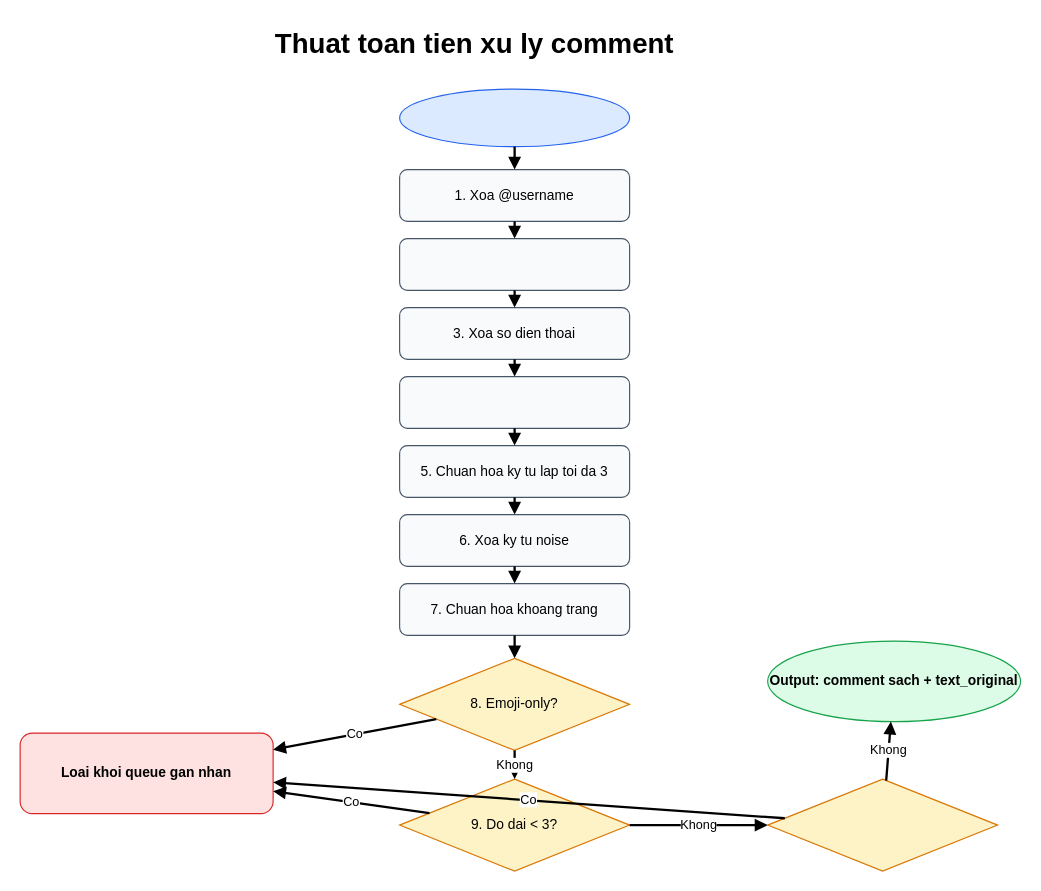
Image size: 1041x891. Some labels were removed from this diagram. Here are the shapes that lost their labels. From the top down, the box of each, then its label:
(398, 88, 630, 147): Input: comment raw
(398, 237, 630, 290): 2. Xoa URL
(398, 375, 630, 428): 4. Decode HTML entities
(766, 778, 998, 871): 10. Trung lap?
